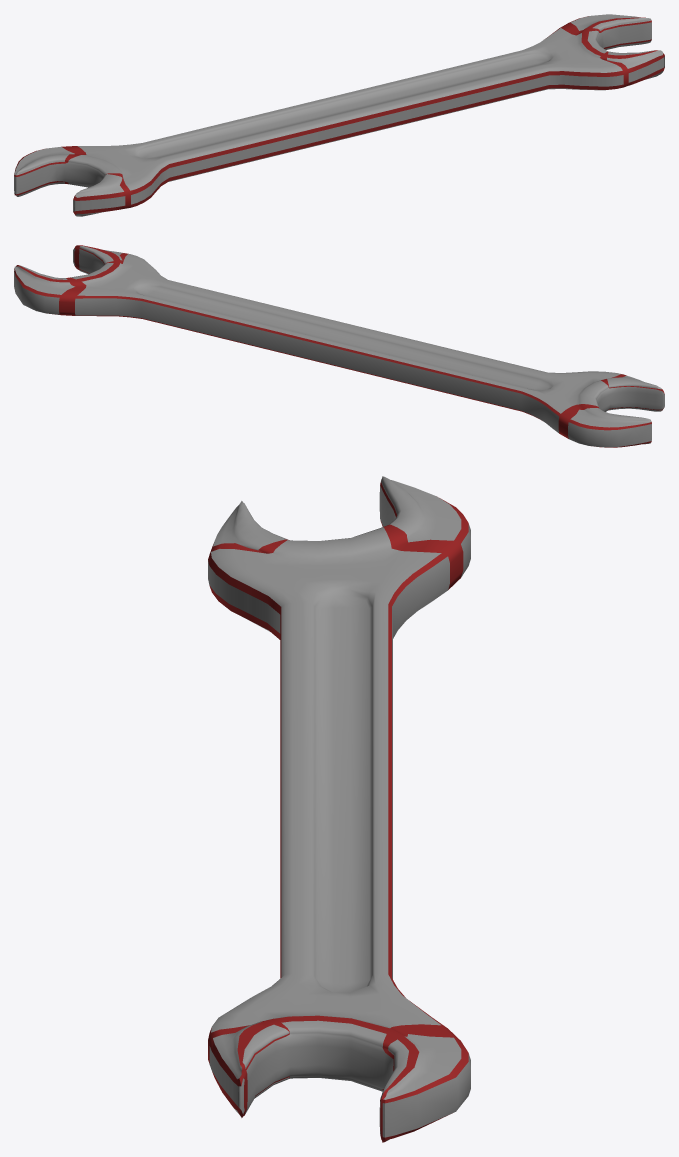
Rendered from Клуцх.FBX.
3 views of the same model, one above another, from view 1: azimuth 30°, elevation 25°; view 2: azimuth 150°, elevation 25°; view 3: azimuth 270°, elevation 25° (orthographic). The views are drawn at different scales.
Parts seen in each view (by area): view 1: wrench:polySurface6, Object001; view 2: wrench:polySurface6, Object001; view 3: wrench:polySurface6, Object001.
Part boxes in pixels (bbox=[...]): wrench:polySurface6: bbox=[14, 14, 664, 216]; Object001: bbox=[14, 16, 664, 214]; wrench:polySurface6: bbox=[14, 246, 664, 447]; Object001: bbox=[14, 245, 664, 447]; wrench:polySurface6: bbox=[208, 476, 470, 1140]; Object001: bbox=[208, 482, 468, 1142].
Bounding box in the file's own units: 28.75 × 1.12 × 5.13.
